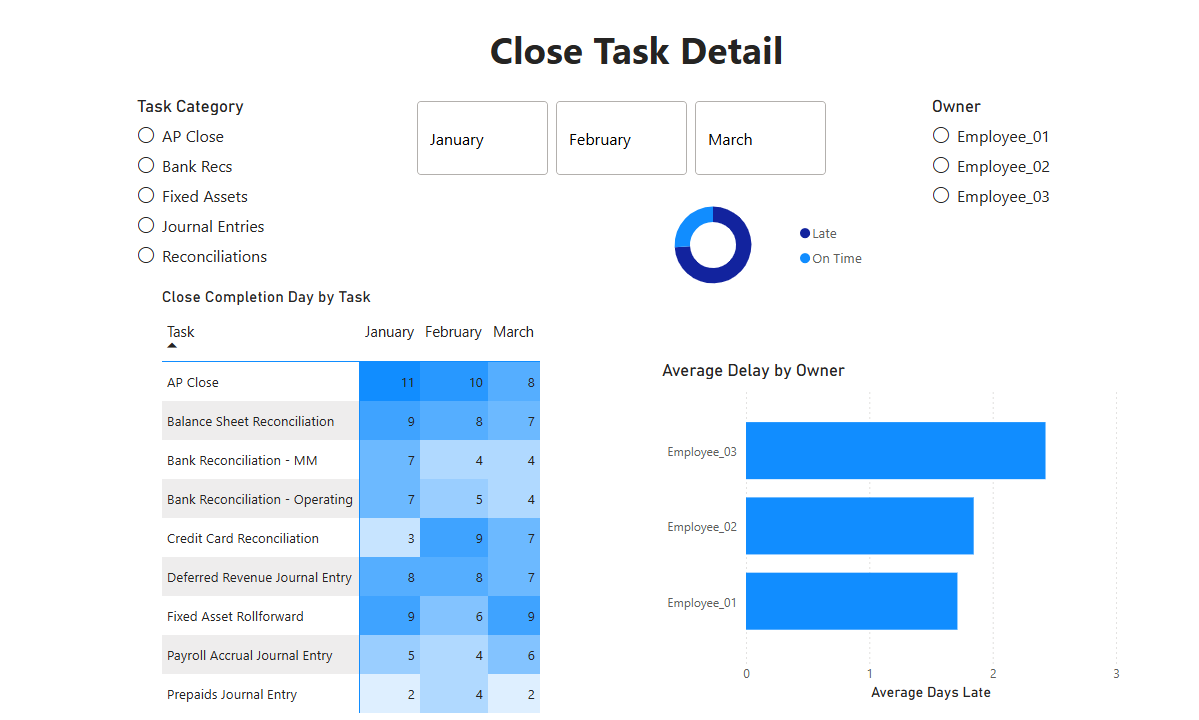

The page's visual inventory and layout, read from the dashboard file:
{"tool":"powerbi","page":{"name":"Page 2","canvas":[1280,720],"ordinal":1},"visuals":[{"type":"textbox","box":[9.5,19,1270.5,55.8],"z":0},{"type":"pivotTable","title":"Close Completion Day by Task","fields":{"Rows":["Month_End_Close_Tracker.Task"],"Values":["Max(Month_End_Close_Tracker.Completion Day)"],"Columns":["Month_End_Close_Tracker.Close Month"]},"box":[161.2,286.6,398.2,433],"z":1000},{"type":"listSlicer","fields":{"Values":["Month_End_Close_Tracker.Owner"]},"box":[931.3,95.9,147.5,149.6],"z":2000},{"type":"listSlicer","fields":{"Values":["Month_End_Close_Tracker.Task Category"]},"box":[135.9,95.9,165.4,190.7],"z":3000},{"type":"advancedSlicerVisual","fields":{"Values":["Month_End_Close_Tracker.Close Month"]},"box":[416.1,95.9,419.3,84.3],"z":4000},{"type":"clusteredBarChart","title":"Average Delay by Owner","fields":{"Y":["Month_End_Close_Tracker.Average Delay by Owner"],"Category":["Month_End_Close_Tracker.Owner"]},"box":[660.5,360.3,468.8,344.5],"z":5000},{"type":"donutChart","fields":{"Category":["Month_End_Close_Tracker.Timing Status"],"Y":["CountNonNull(Month_End_Close_Tracker.Timing Status)"]},"box":[625.8,191.7,254.9,106.4],"z":5001}]}

Visuals, with their boxes on the page's 1280x720 design canvas (x1, y1, x2, y2). These are canvas units, not pixel positions in the 1199x720 screenshot, which may show the page scaled, cropped or inside an application window:
textbox: left=10, top=19, right=1280, bottom=75
"Close Completion Day by Task" pivotTable: left=161, top=287, right=559, bottom=720
listSlicer - Month_End_Close_Tracker.Owner: left=931, top=96, right=1079, bottom=246
listSlicer - Month_End_Close_Tracker.Task Category: left=136, top=96, right=301, bottom=287
advancedSlicerVisual - Month_End_Close_Tracker.Close Month: left=416, top=96, right=835, bottom=180
"Average Delay by Owner" clusteredBarChart: left=660, top=360, right=1129, bottom=705
donutChart - Month_End_Close_Tracker.Timing Status x CountNonNull(Month_End_Close_Tracker.Timing Status): left=626, top=192, right=881, bottom=298
